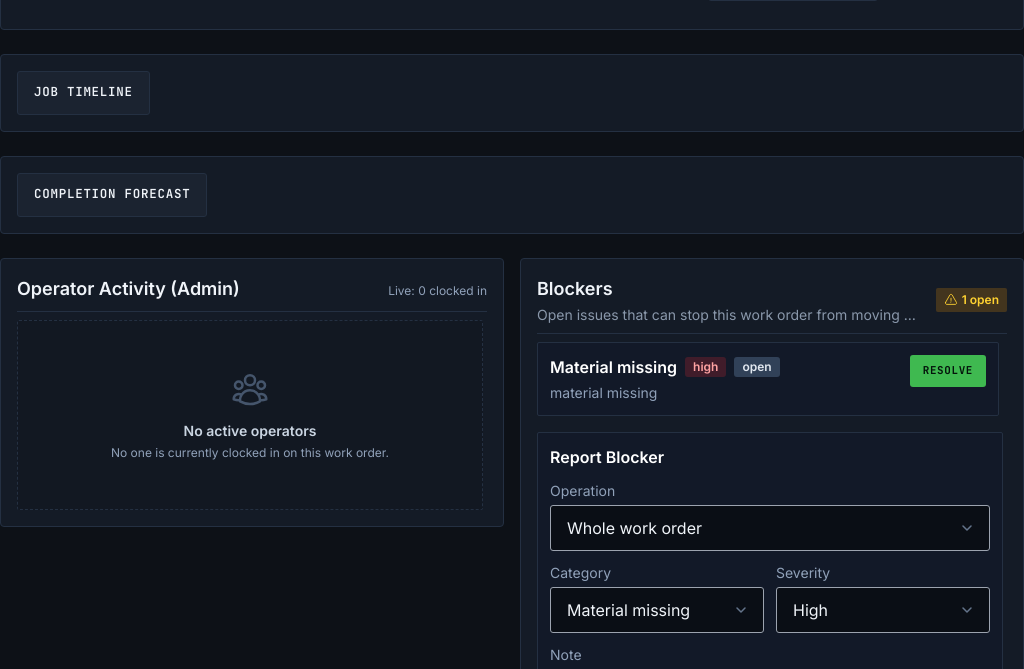
Test: WorkOrderDetail resolve-blocker toast › counts and names EVERY blocker still in the way
(page scrolled)
Click the button "Resolve".
click(948, 370)  # box [910, 354, 986, 386]
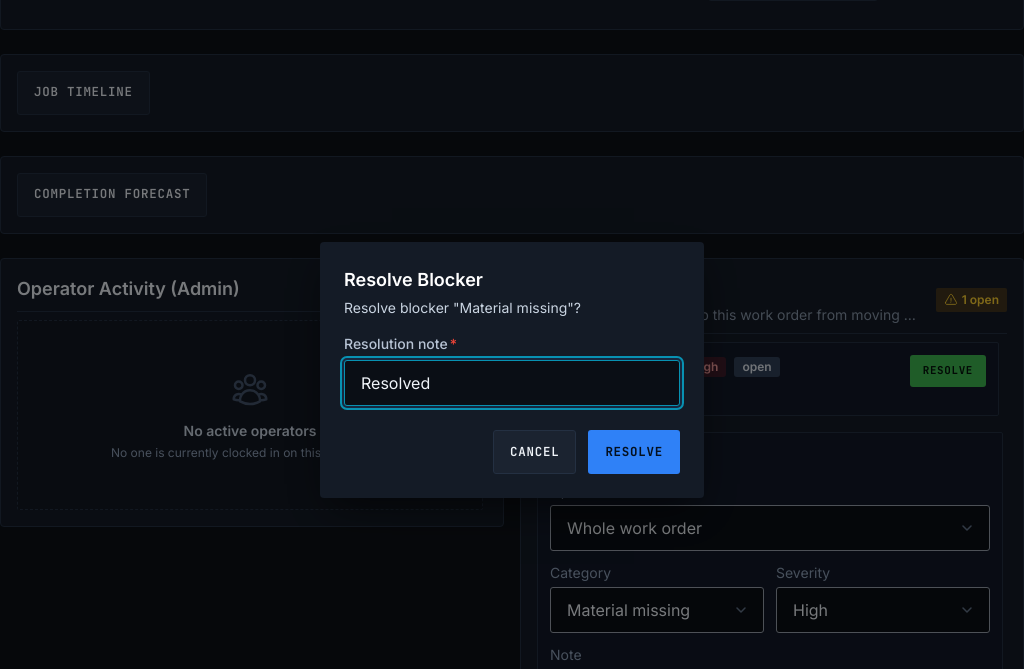
Now the field labelled "Resolution note*" holds "Resolved", box [344, 360, 680, 406]
Click the button "Resolve".
click(634, 452)  # box [588, 430, 680, 474]
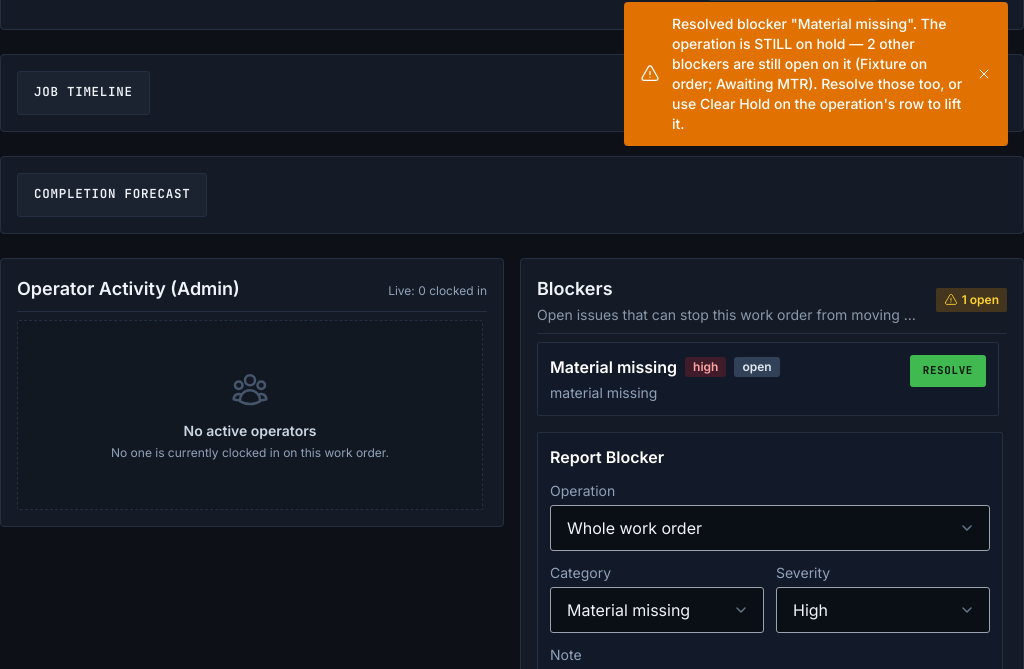
Now the text "STILL on hold" shows "2 other blockers are", box [672, 15, 962, 132]
Now the text "STILL on hold" shows "Fixture on order; Awaiting MTR", box [672, 15, 962, 132]
